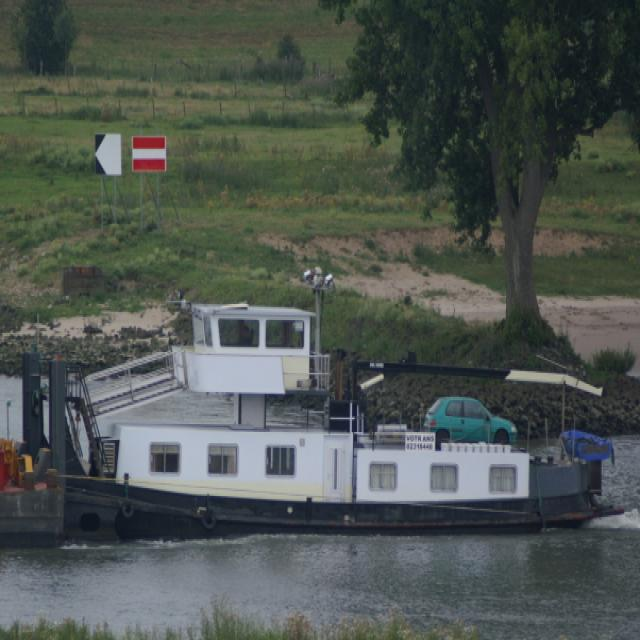tugboat: (16, 260, 622, 558)
